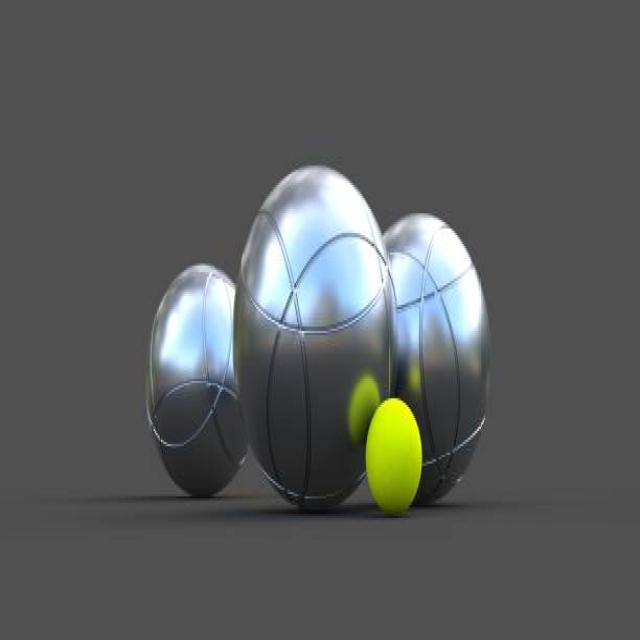hatball: (363, 395, 429, 527)
petanque: (225, 157, 400, 515), (376, 195, 494, 506), (140, 256, 254, 515)
